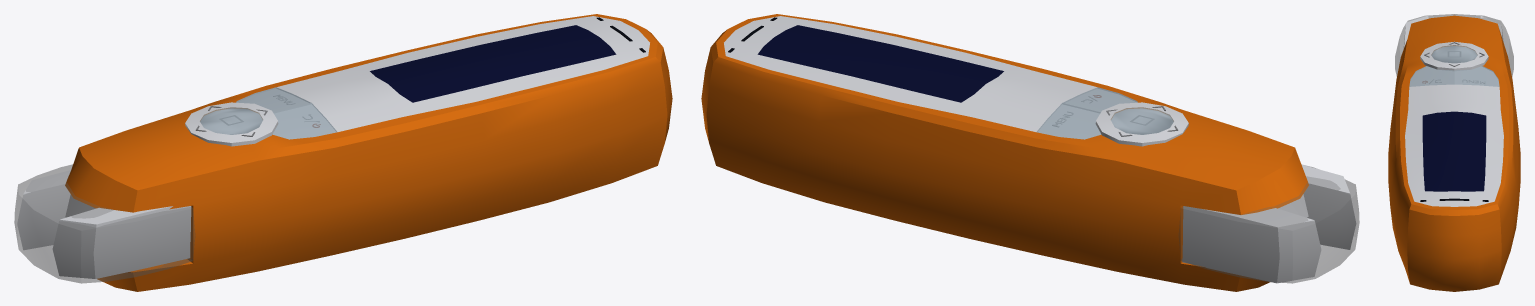
The model's file is C-Pen Reader 1.fbx.
3 views of the same model, side by side, from view 1: azimuth 30°, elevation 25°; view 2: azimuth 150°, elevation 25°; view 3: azimuth 270°, elevation 25° (orthographic). The views are drawn at different scales.
Parts seen in each view (by area): view 1: C-Pen body, Control panel plate; view 2: C-Pen body, Control panel plate; view 3: C-Pen body, Control panel plate, Control panel.
Boxes of the visible parts, x1=… form: C-Pen body: x1=14, y1=14, x2=672, y2=291; Control panel plate: x1=185, y1=102, x2=278, y2=146; C-Pen body: x1=701, y1=14, x2=1359, y2=291; Control panel plate: x1=1095, y1=102, x2=1188, y2=146; C-Pen body: x1=1388, y1=14, x2=1520, y2=291; Control panel plate: x1=1420, y1=41, x2=1488, y2=70; Control panel: x1=1424, y1=42, x2=1484, y2=66.
Bounding box in the file's own units: 0.3865 × 0.0807 × 0.0955.
